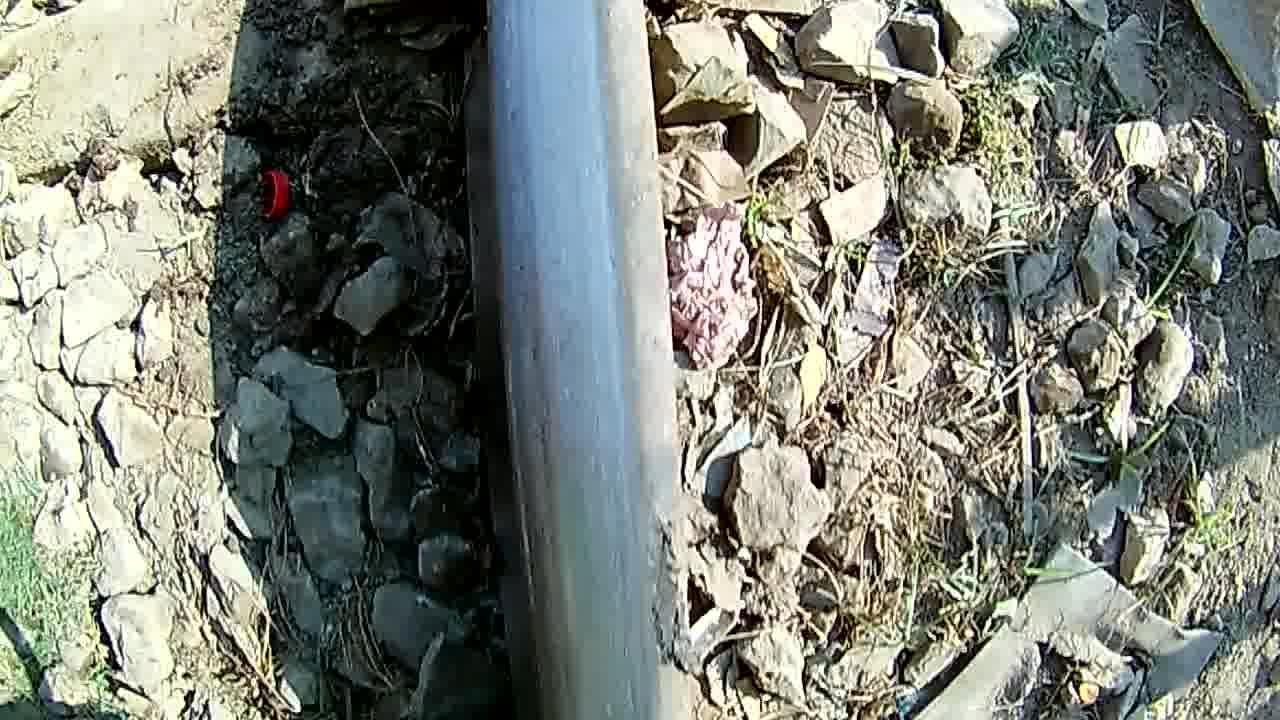crack: (479, 3, 681, 720)
